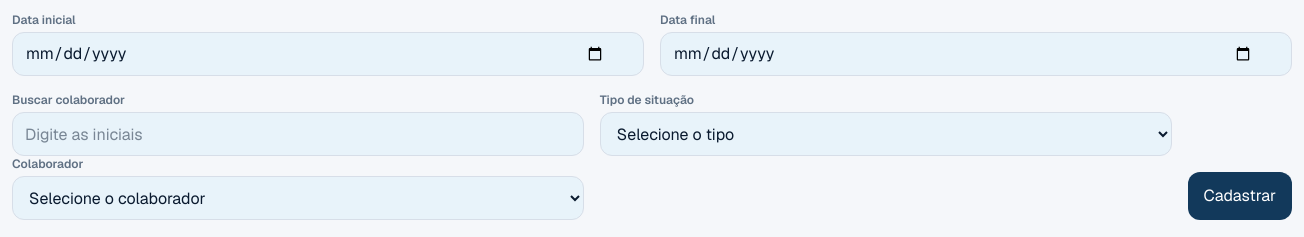
SituationForm › sets end date automatically when start date is later
Type "2026-07-10" into the date field below "Data inicial". click: (328, 54)
box: [12,32,644,76]
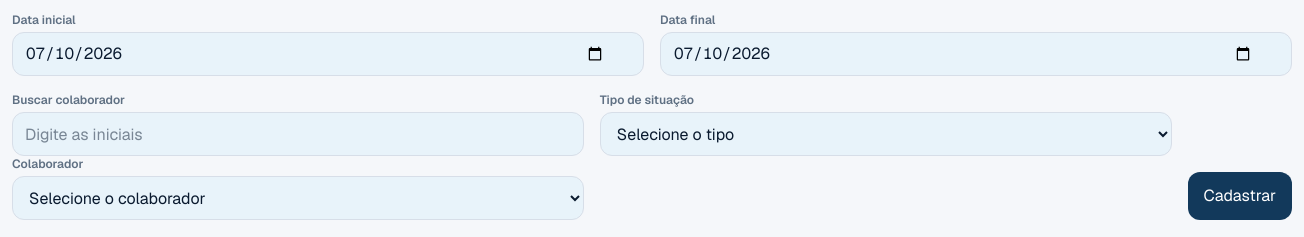
Check: the date field below "Data final" holds "2026-07-10", box [660,32,1292,76]
